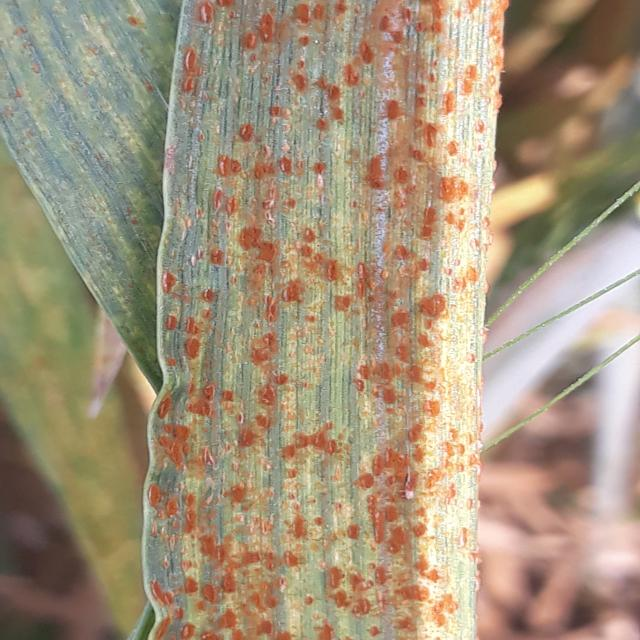orang_rust: (144, 2, 510, 640), (2, 0, 191, 404)
